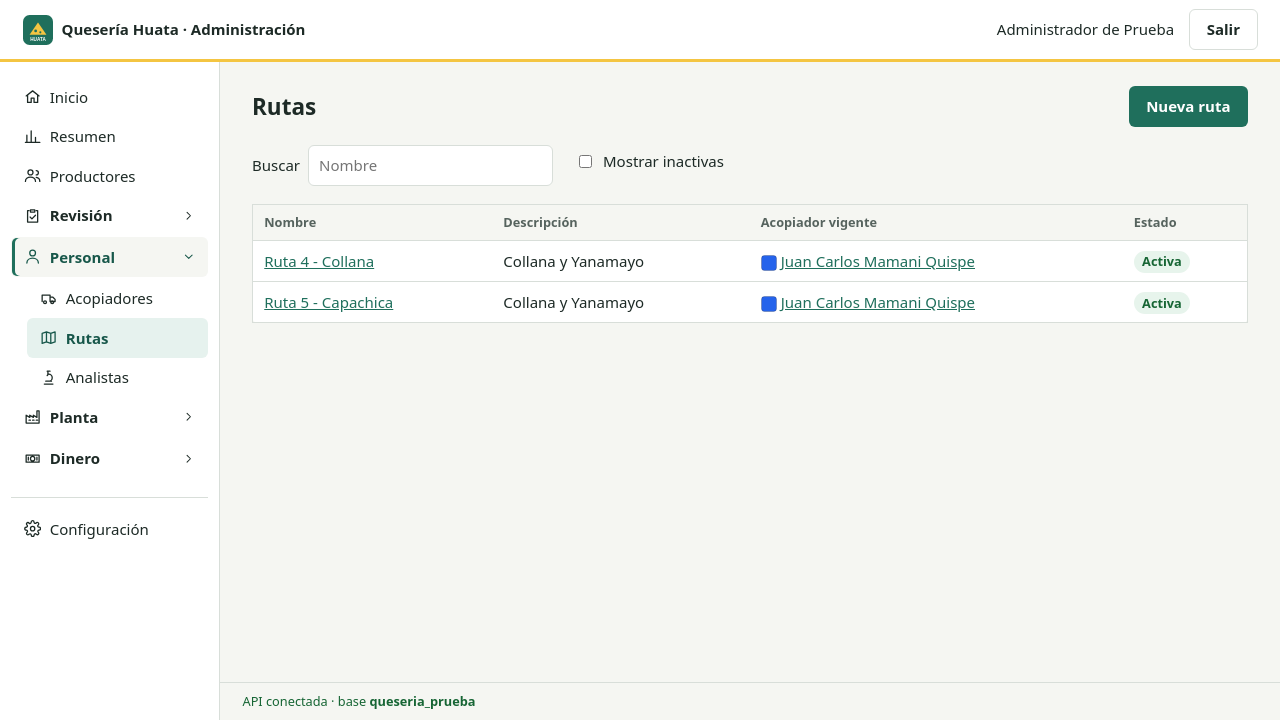
Test: lista de rutas › busca por nombre
The width and height of the screenshot is (1280, 720).
Expected: the link "Ruta 4 - Collana" is shown, [264,251,374,271]
Type "capa" into the search field labelled "Buscar" at (430, 165), box [308,145,552,186]
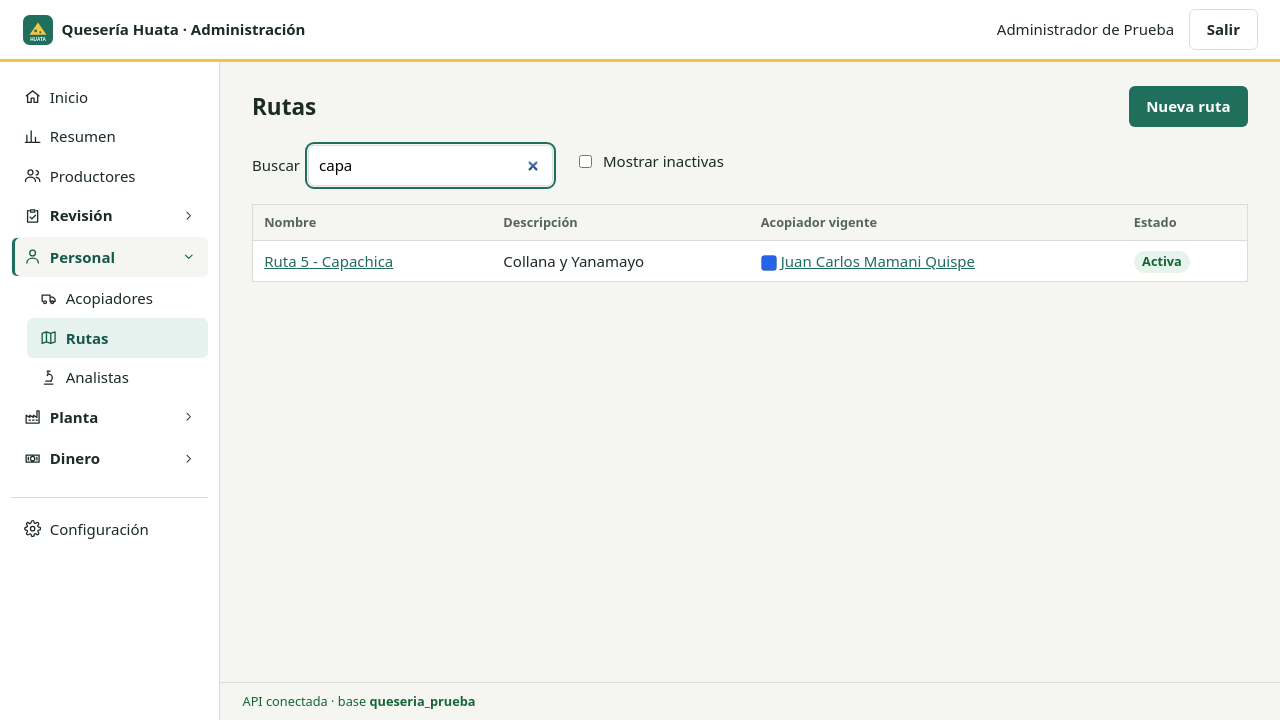
Expected: the link "Ruta 5 - Capachica" is shown, [264,251,393,271]
Result: the link "Ruta 4 - Collana" is gone
